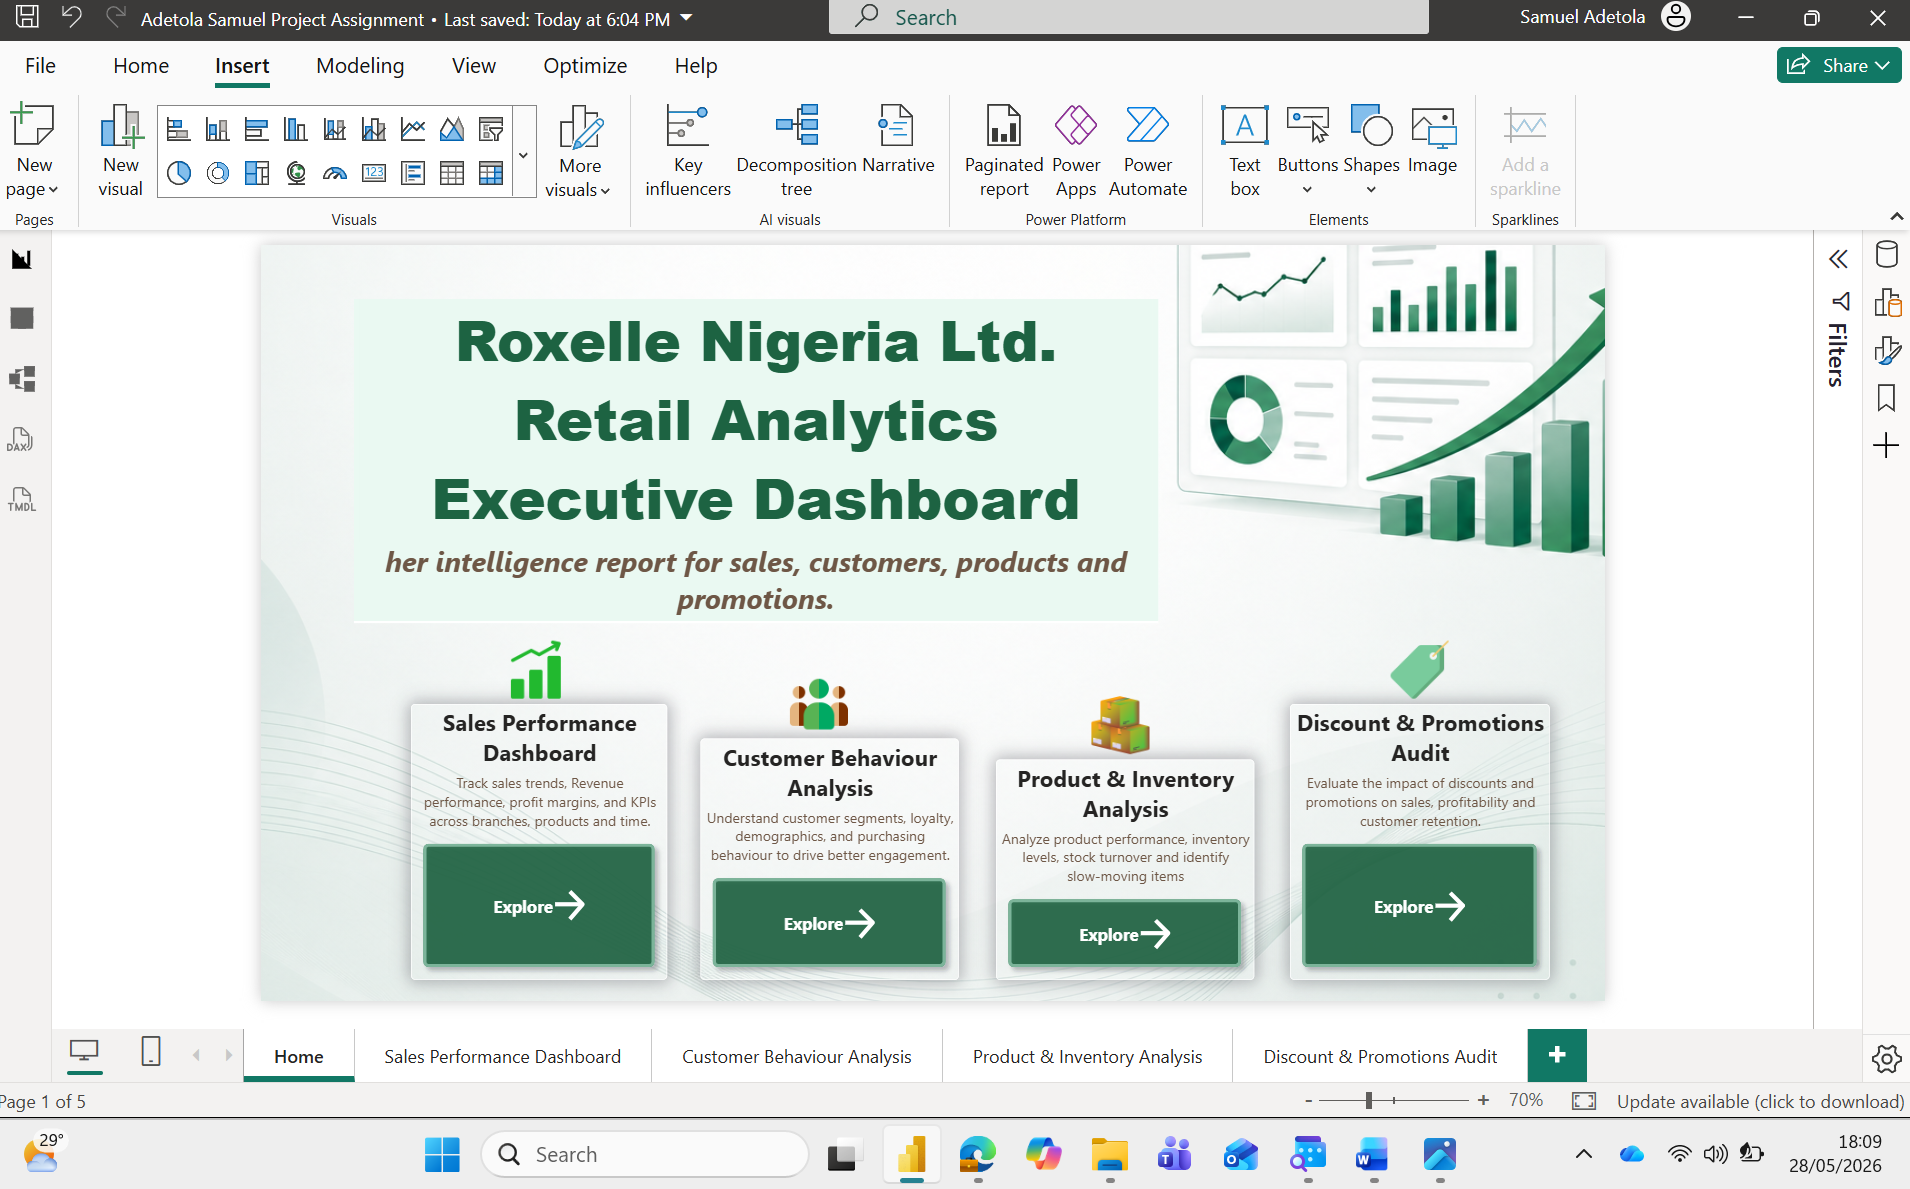

Layout of this report page (visuals, bound fields, positions):
{"tool":"powerbi","page":{"name":"Home","canvas":[1280,720],"ordinal":0},"visuals":[{"type":"textbox","title":"Roxelle Nigeria Ltd.           Retail Analytics Executive Dashboard","box":[88.6,51.4,765.7,308.6],"z":0},{"type":"actionButton","title":"Sales Performance Dashboard","box":[142.9,437.1,244.3,262.9],"z":1000},{"type":"actionButton","title":"Customer Behaviour Analysis","box":[418.6,470,245.7,230],"z":2000},{"type":"actionButton","title":"Product & Inventory Analysis","box":[700,490,245.7,210],"z":3000},{"type":"actionButton","title":"Discount & Promotions Audit","box":[980,437.1,247.1,262.9],"z":4000},{"type":"image","box":[230,371.4,71.4,65.7],"z":5000},{"type":"image","box":[495.7,404.3,71.4,65.7],"z":6000},{"type":"image","box":[782.9,424.3,71.4,65.7],"z":7000},{"type":"image","box":[1067.1,371.4,72.9,65.7],"z":8000}]}

Visuals, with their boxes on the page's 1280x720 design canvas (x1, y1, x2, y2). These are canvas units, not pixel positions in the 1910x1189 screenshot, which may show the page scaled, cropped or inside an application window:
"Roxelle Nigeria Ltd.           Retail Analytics Executive Dashboard" textbox: bbox=(89, 51, 854, 360)
"Sales Performance Dashboard" actionButton: bbox=(143, 437, 387, 700)
"Customer Behaviour Analysis" actionButton: bbox=(419, 470, 664, 700)
"Product & Inventory Analysis" actionButton: bbox=(700, 490, 946, 700)
"Discount & Promotions Audit" actionButton: bbox=(980, 437, 1227, 700)
image: bbox=(230, 371, 301, 437)
image: bbox=(496, 404, 567, 470)
image: bbox=(783, 424, 854, 490)
image: bbox=(1067, 371, 1140, 437)
